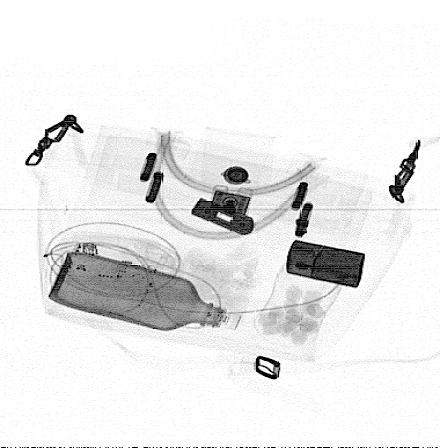Lighter: (285, 239, 367, 289)
